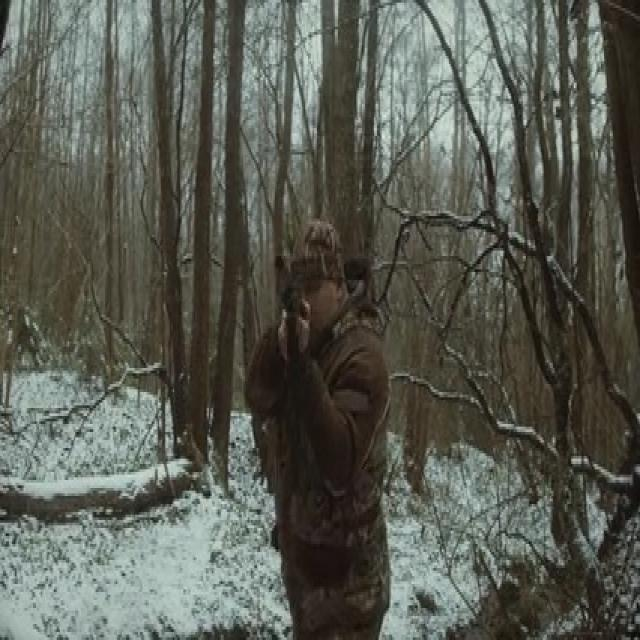Gun_Holder: (256, 256, 311, 336)
Person: (249, 220, 391, 636)
